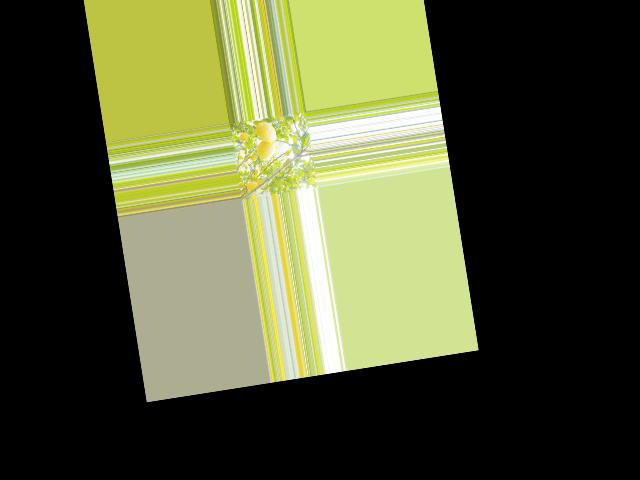lemon: (252, 137, 279, 162)
